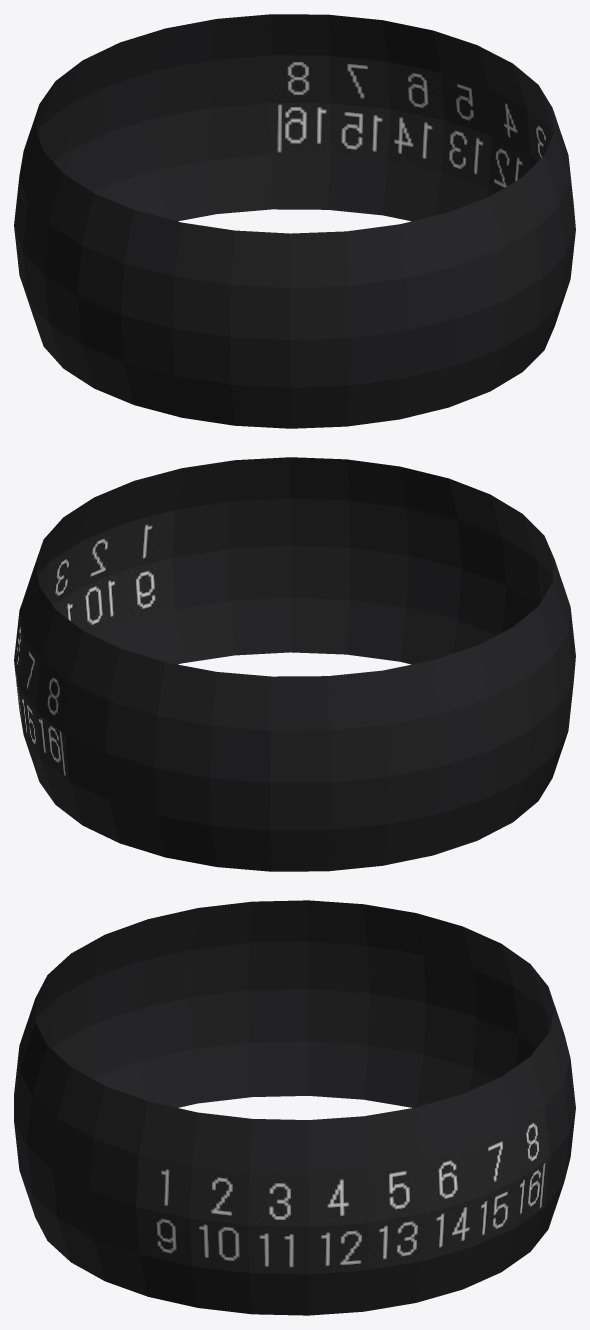
Rendered from sphereKeyboard.dae.
3 renders of one model, top to bottom at view 1: azimuth 30°, elevation 25°; view 2: azimuth 150°, elevation 25°; view 3: azimuth 270°, elevation 25°, orthographic.
Parts seen in each view (by area): view 1: Sphere; view 2: Sphere; view 3: Sphere.
Part boxes in pixels (left/top/right/bottom): Sphere: left=14, top=14, right=575, bottom=428; Sphere: left=14, top=457, right=575, bottom=871; Sphere: left=14, top=900, right=575, bottom=1315.
Bounding box in the file's own units: 2 × 1.99 × 0.7654.
1 material, 1 textured.
